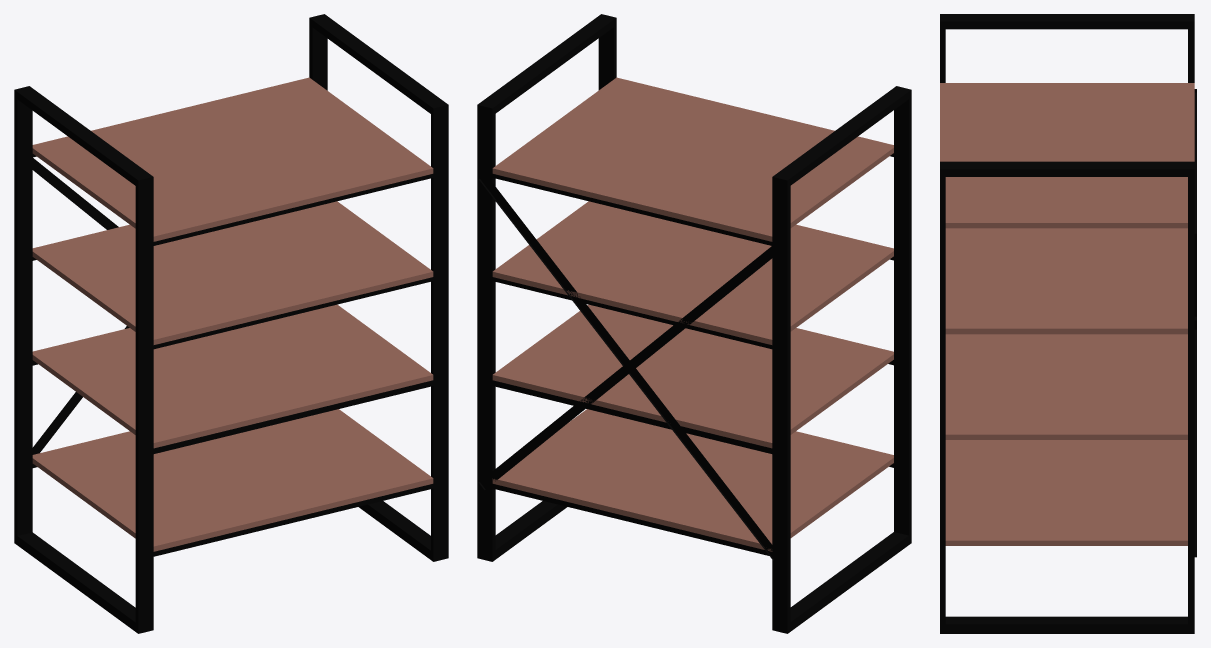
The model's file is estante.fbx.
3 views of the same model, side by side, from view 1: azimuth 30°, elevation 25°; view 2: azimuth 150°, elevation 25°; view 3: azimuth 270°, elevation 25° (orthographic). The views are drawn at different scales.
Visible parts, largest first — view 1: Estante.001; view 2: Estante.001; view 3: Estante.001.
Boxes of the visible parts, bbox=[...] form: Estante.001: bbox=[14, 14, 448, 633]; Estante.001: bbox=[477, 14, 911, 633]; Estante.001: bbox=[940, 14, 1196, 633].
Size of the model in its own units: 846 by 1181 by 591.
